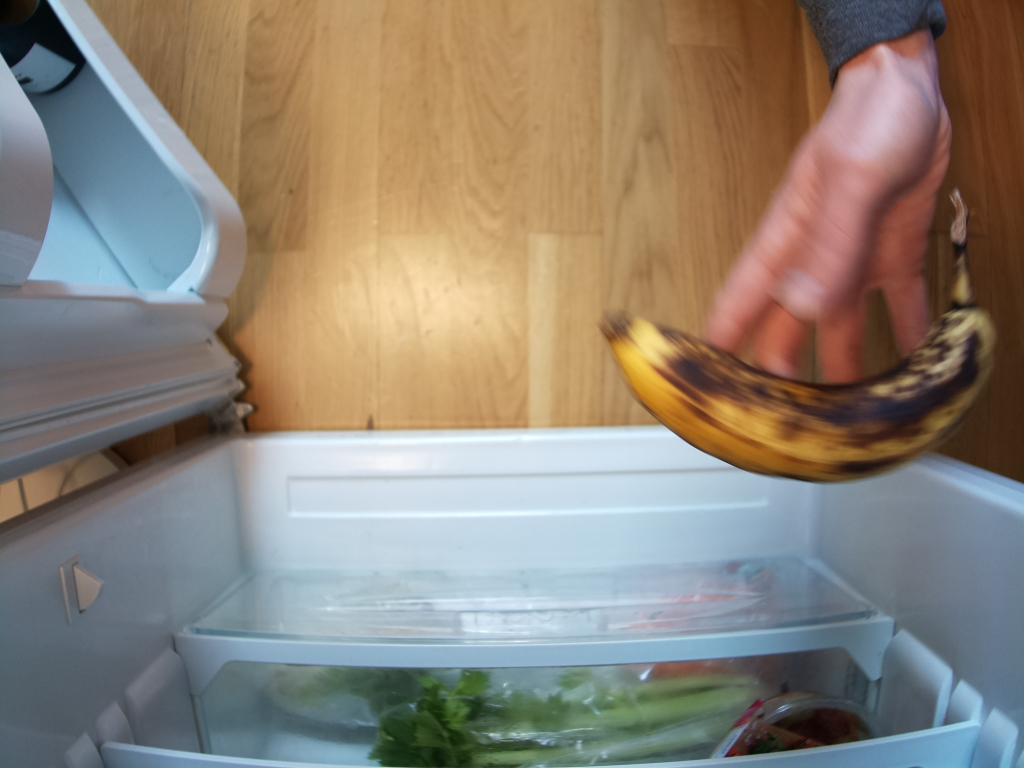banana-overripe: (601, 189, 996, 484)
